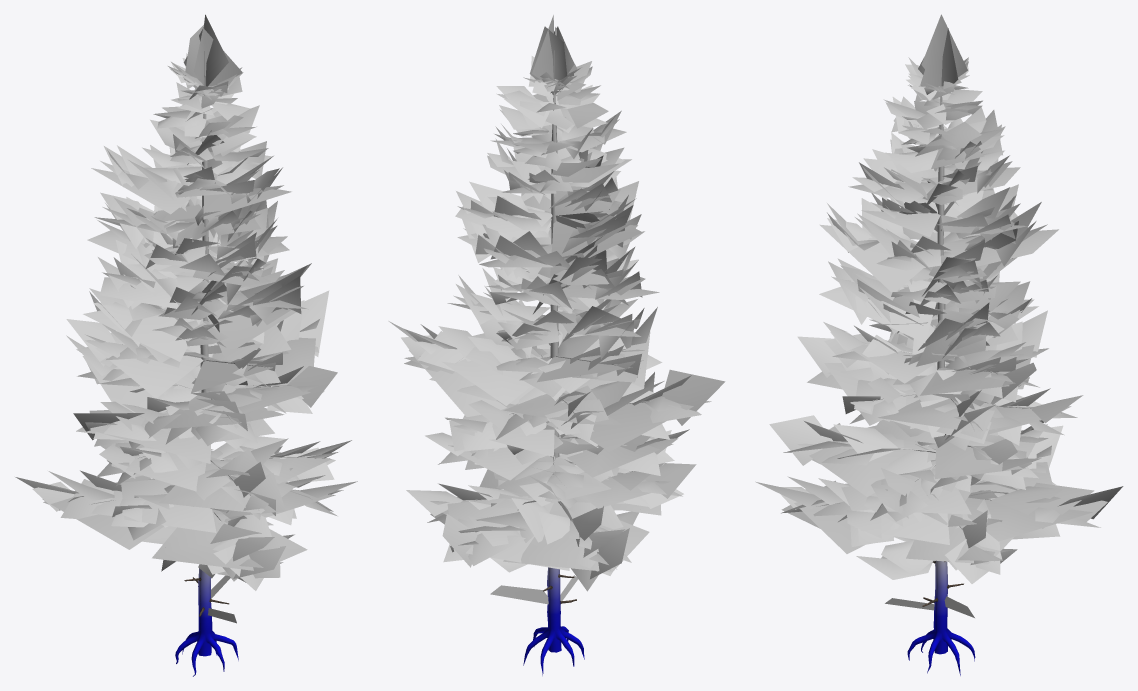
The model's file is Tree7_LOD0.fbx.
3 views of the same model, side by side, from view 1: azimuth 30°, elevation 25°; view 2: azimuth 150°, elevation 25°; view 3: azimuth 270°, elevation 25° (orthographic).
Visible parts, largest first — view 1: polySurface3159; view 2: polySurface3159; view 3: polySurface3159.
Part boxes in pixels (<box>): polySurface3159: <box>15,14,357,676</box>; polySurface3159: <box>388,15,725,675</box>; polySurface3159: <box>755,14,1123,675</box>.
Bounding box in the file's own units: 439 × 921 × 472.
